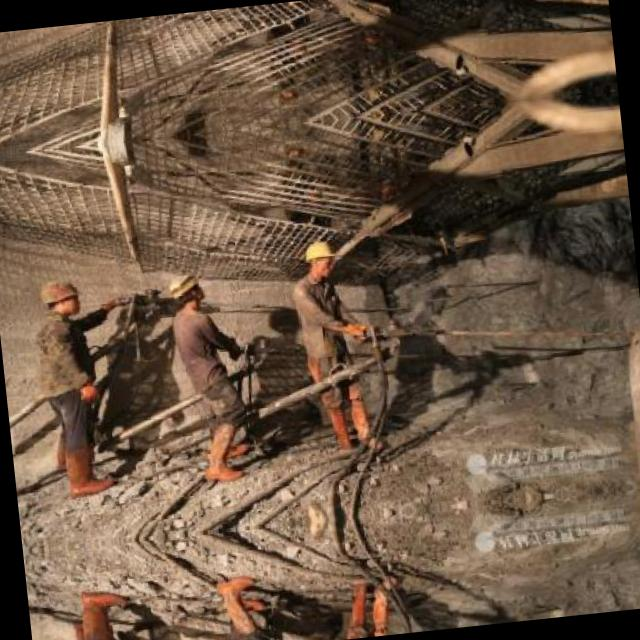helmet: (36, 276, 83, 320), (161, 268, 206, 311), (299, 236, 340, 280)
